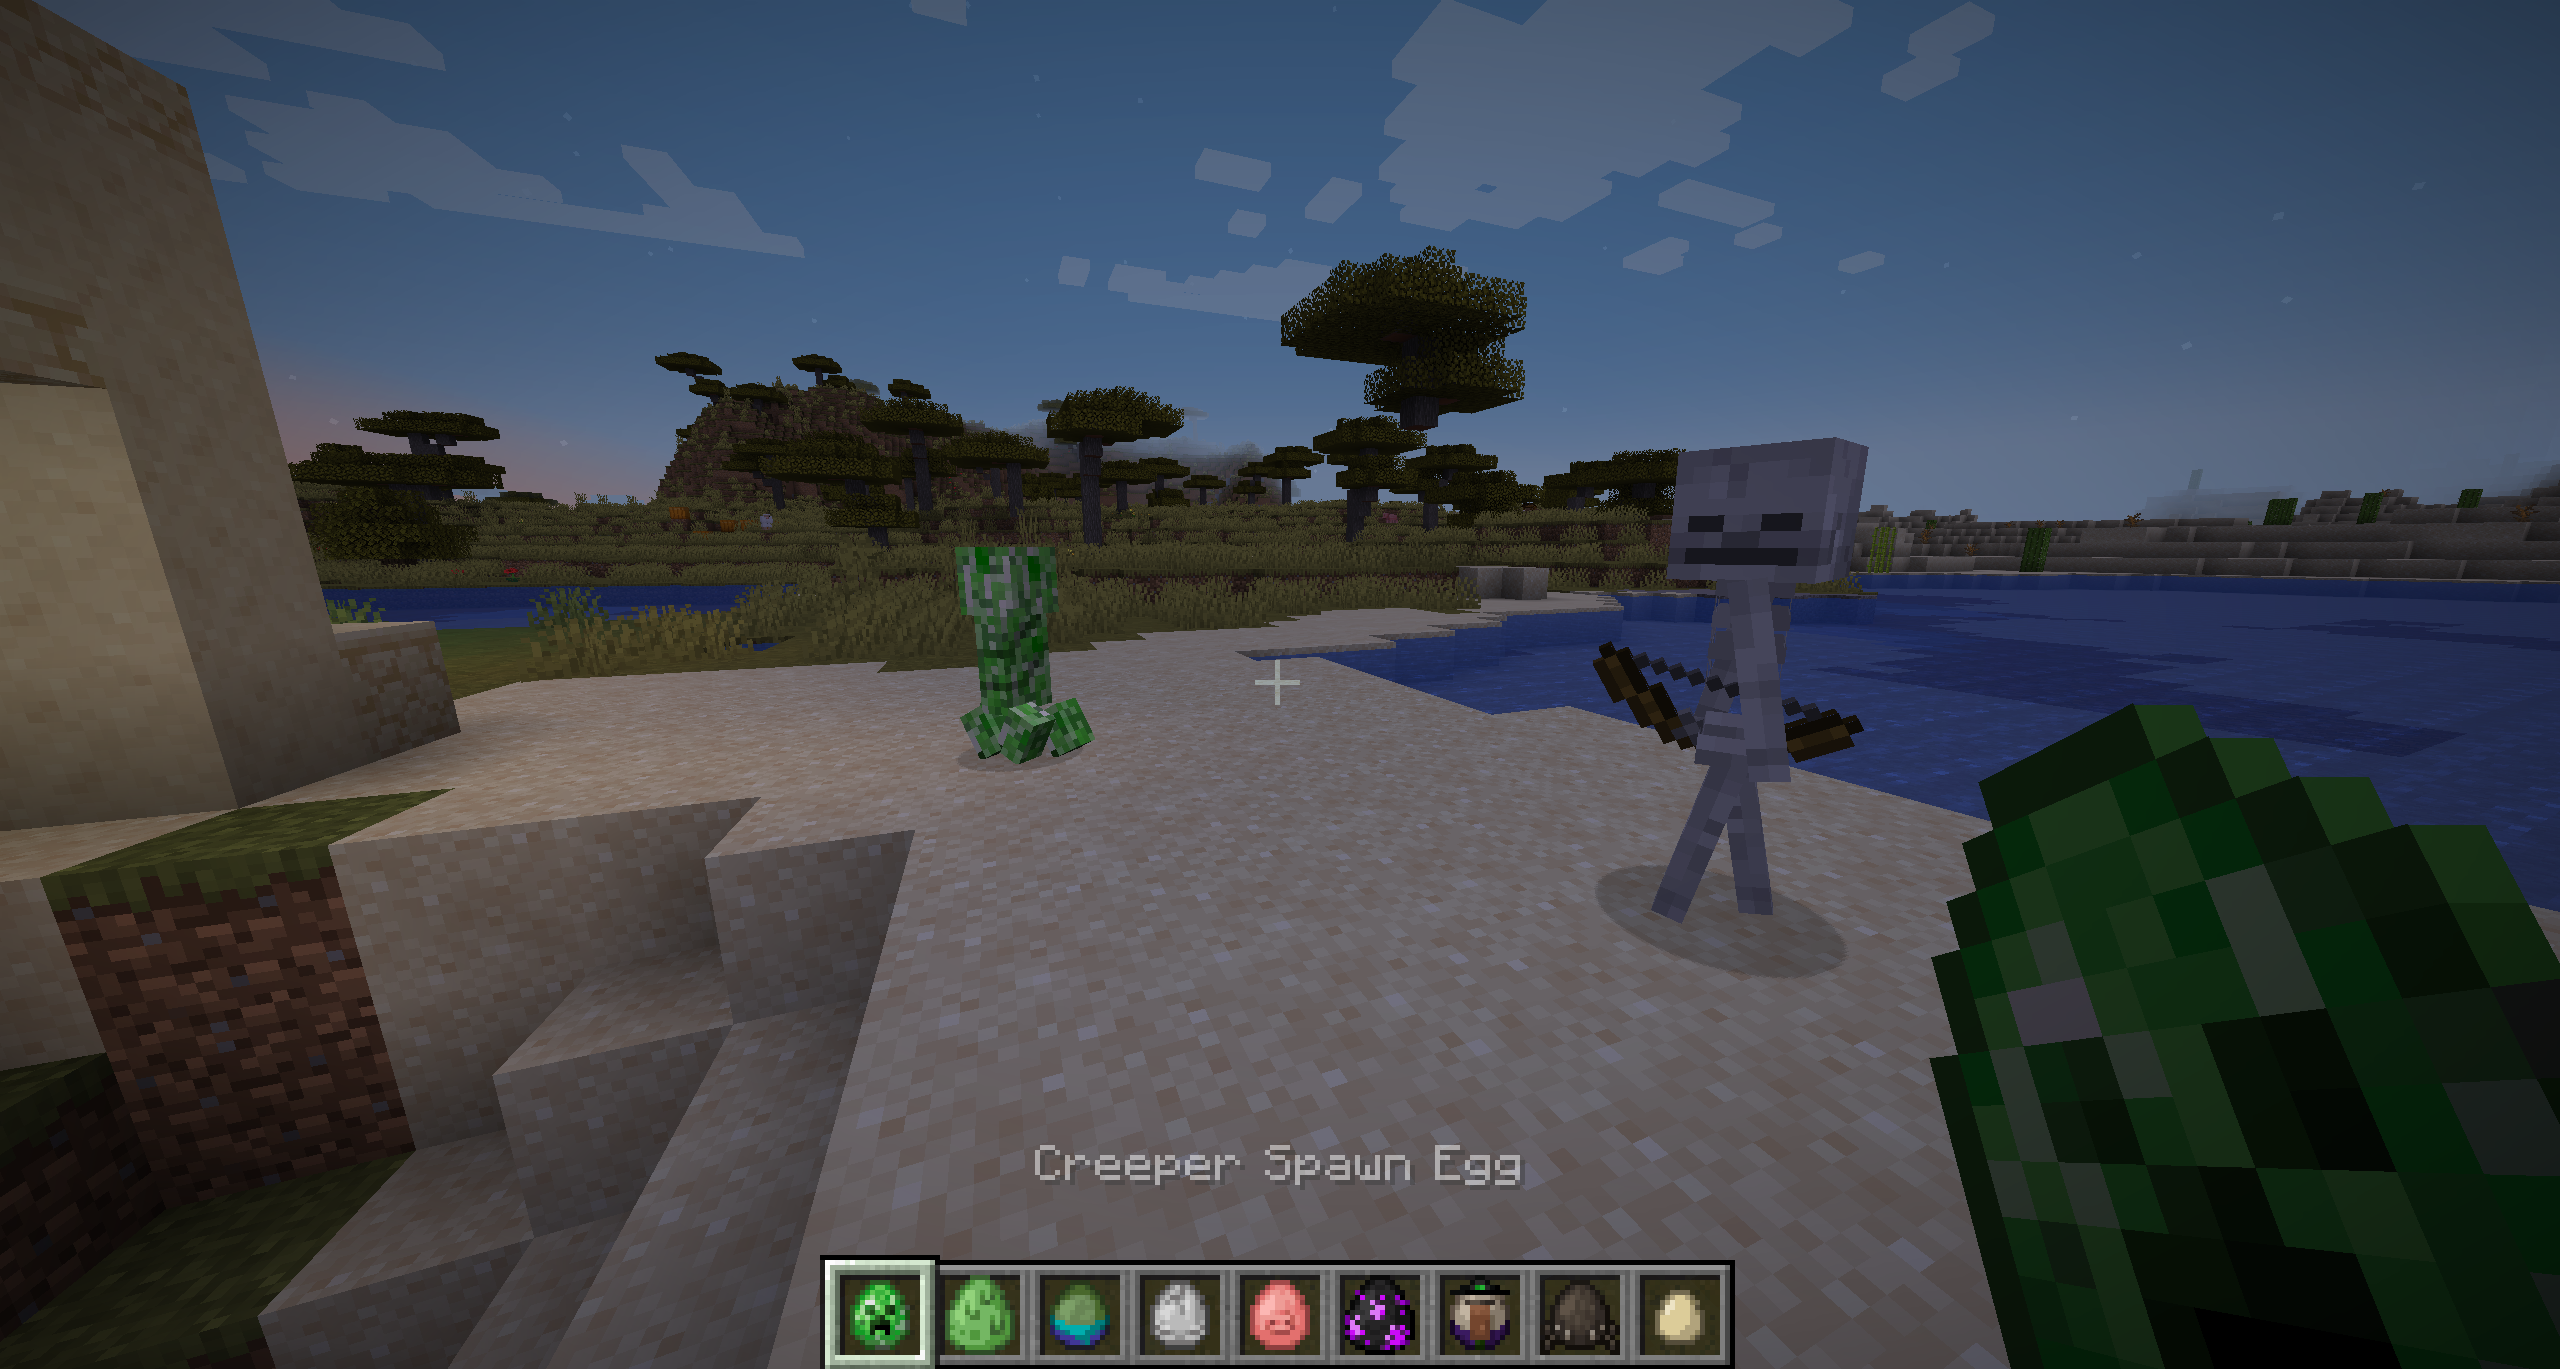creepers: (952, 543, 1099, 768)
squelettes: (1649, 437, 1868, 944)
